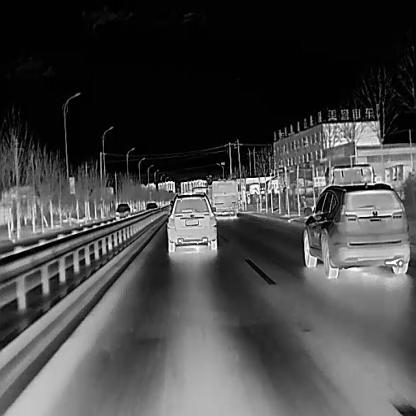bus: (208, 179, 238, 215)
car: (302, 180, 410, 279), (165, 190, 217, 252), (115, 202, 130, 220), (146, 201, 157, 212)
truck: (314, 162, 412, 202)
